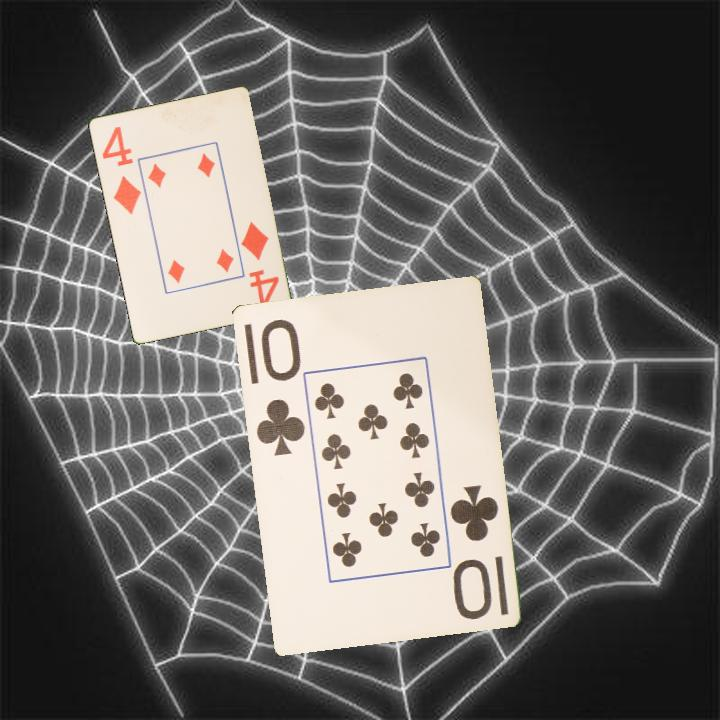10c: (252, 315, 308, 458), (446, 481, 501, 623)
4d: (98, 122, 144, 217), (237, 218, 282, 311)
